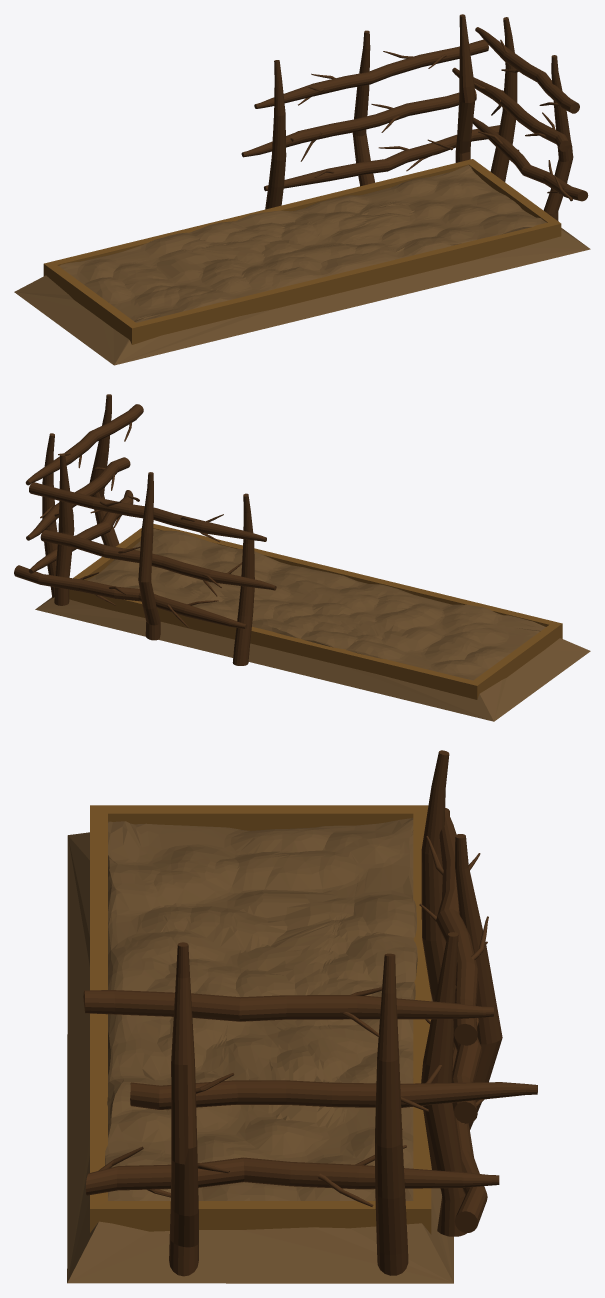
The model's file is field.fbx.
The picture shows the model from 3 angles, top to bottom: view 1: azimuth 30°, elevation 25°; view 2: azimuth 150°, elevation 25°; view 3: azimuth 270°, elevation 25°; orthographic projection. The views are drawn at different scales.
Parts seen in each view (by area): view 1: Cube.001, Cube.002, Cylinder.008, Cylinder.007, Cylinder.006, Cylinder.001, Cylinder.003, Cylinder.009, Cylinder.011, Cylinder.010, Cylinder.005, Cylinder.004 (+1 smaller); view 2: Cube.001, Cube.002, Cylinder.008, Cylinder.006, Cylinder.007, Cylinder.002, Cylinder.003, Cylinder.011, Cylinder.001, Cylinder.010, Cylinder.004, Cylinder.009 (+1 smaller); view 3: Cube.001, Cube.002, Cylinder.011, Cylinder.009, Cylinder.010, Cylinder.004, Cylinder.005, Cylinder.001, Cylinder.008, Cylinder.003, Cylinder.002, Cylinder.006 (+1 smaller).
Boxes of the visible parts, x1,y1,x2,y2 form: Cube.001: [14, 165, 590, 365]; Cube.002: [43, 159, 561, 344]; Cylinder.008: [254, 39, 488, 108]; Cylinder.007: [241, 89, 476, 161]; Cylinder.006: [264, 125, 499, 191]; Cylinder.001: [455, 14, 475, 162]; Cylinder.003: [265, 60, 286, 209]; Cylinder.009: [473, 117, 588, 201]; Cylinder.011: [475, 27, 579, 113]; Cylinder.010: [452, 67, 569, 151]; Cylinder.005: [490, 17, 517, 181]; Cylinder.004: [543, 55, 573, 221]; Cube.001: [35, 528, 590, 721]; Cube.002: [69, 523, 562, 699]; Cylinder.008: [29, 482, 266, 542]; Cylinder.006: [14, 565, 247, 628]; Cylinder.007: [40, 530, 276, 596]; Cylinder.002: [138, 472, 160, 640]; Cylinder.003: [232, 493, 254, 665]; Cylinder.011: [25, 404, 143, 485]; Cylinder.001: [54, 454, 74, 605]; Cylinder.010: [26, 457, 130, 540]; Cylinder.004: [89, 394, 119, 546]; Cylinder.009: [29, 490, 139, 573]; Cube.001: [67, 818, 453, 1283]; Cube.002: [90, 805, 431, 1234]; Cylinder.011: [83, 987, 493, 1036]; Cylinder.009: [85, 1145, 499, 1206]; Cylinder.010: [130, 1065, 537, 1129]; Cylinder.004: [169, 942, 198, 1276]; Cylinder.005: [375, 953, 408, 1275]; Cylinder.001: [421, 932, 466, 1236]; Cylinder.008: [426, 808, 488, 1045]; Cylinder.003: [421, 750, 449, 1001]; Cylinder.002: [455, 834, 502, 1129]; Cylinder.006: [425, 1019, 487, 1232].
Bounding box in the file's own units: 626 × 211 × 269.
